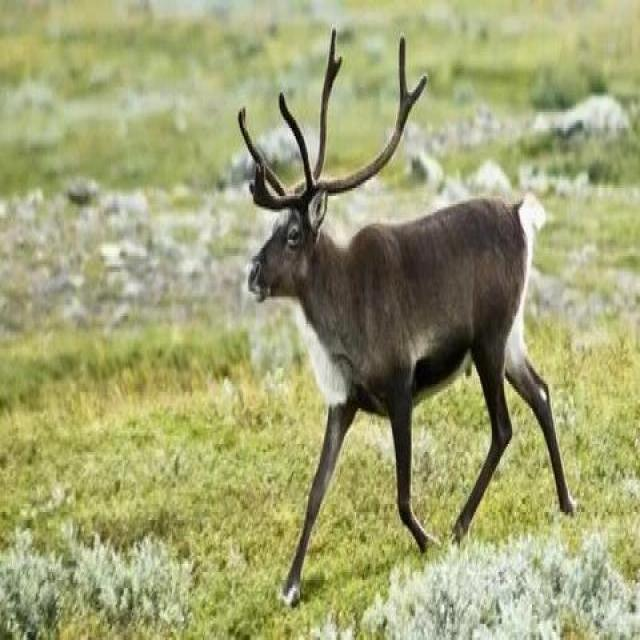deer: (234, 107, 576, 610)
